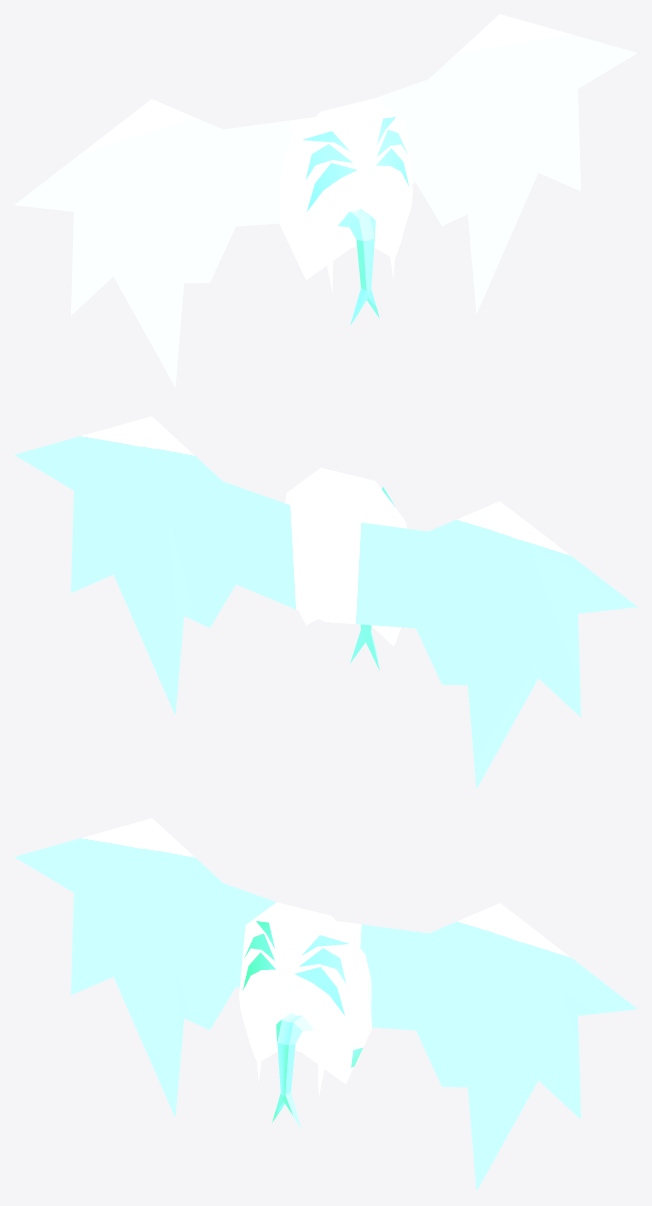
File: GreenDemon.fbx
The picture shows the model from 3 angles, top to bottom: view 1: azimuth 30°, elevation 25°; view 2: azimuth 150°, elevation 25°; view 3: azimuth 330°, elevation 25°; orthographic projection.
Parts seen in each view (by area): view 1: group3_pPlane10; view 2: group3_pPlane10; view 3: group3_pPlane10.
Boxes of the visible parts, x1,y1,x2,y2 form: group3_pPlane10: [14, 14, 637, 387]; group3_pPlane10: [14, 416, 637, 789]; group3_pPlane10: [14, 818, 637, 1191].
Size of the model in its own units: 180 by 81.27 by 21.56.
